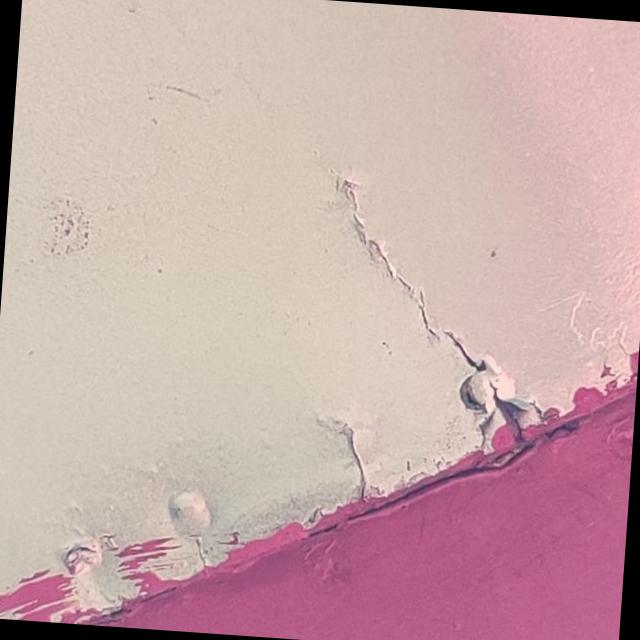Crack: (443, 331, 544, 452), (318, 417, 370, 501)
